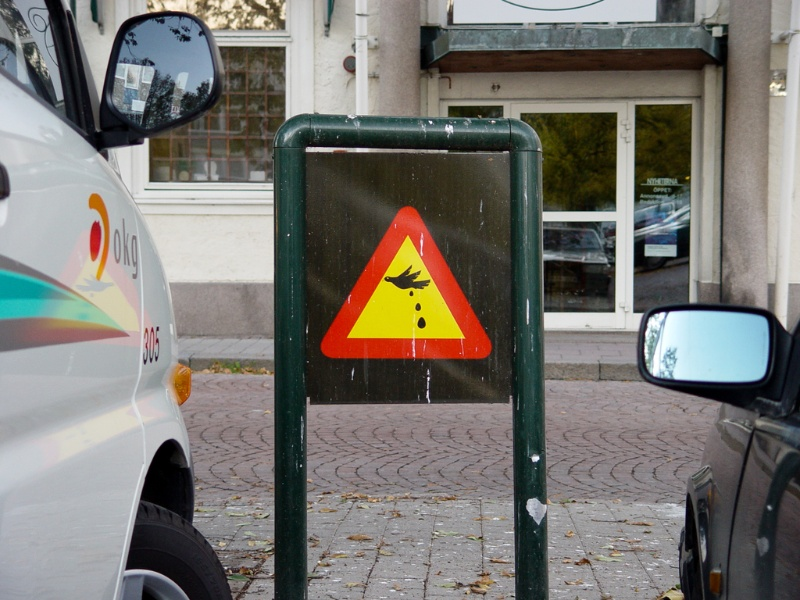animal_ahead: (327, 204, 513, 360)
